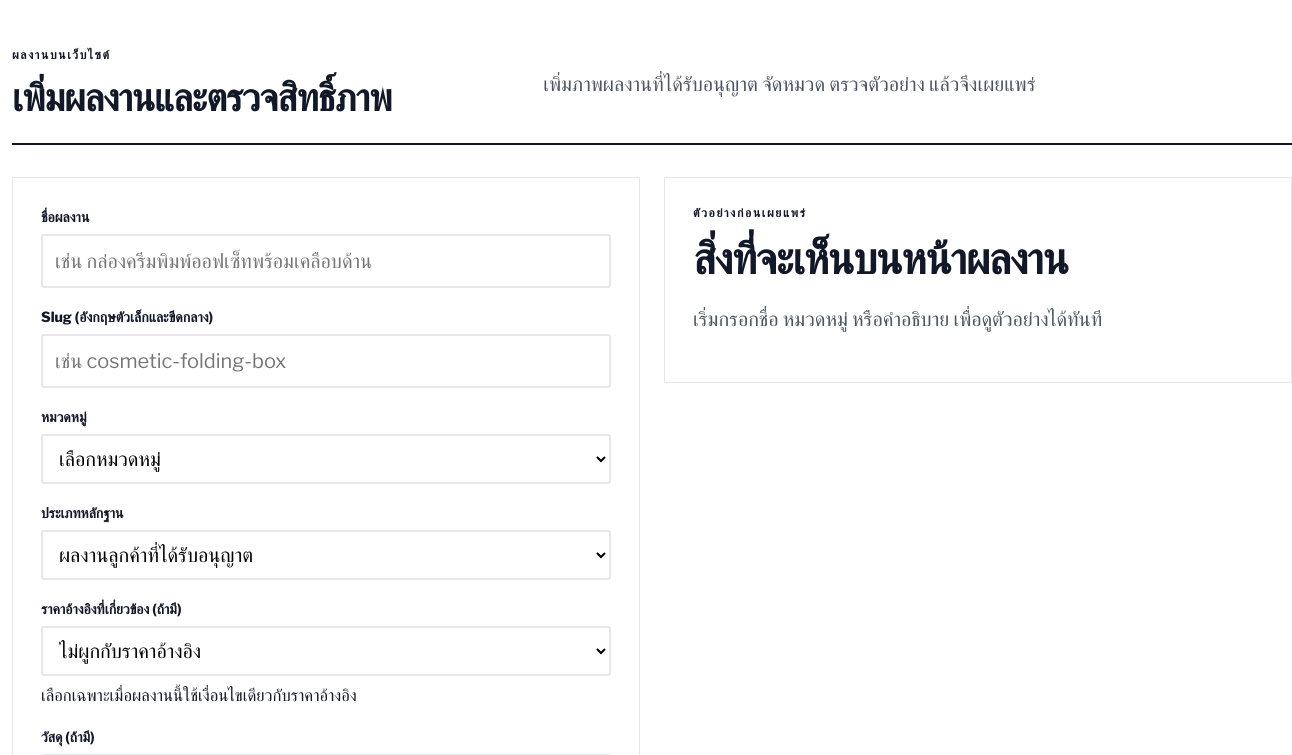
Test case: AdminGalleryEditor › offers controlled categories with an other option and previews draft input
Type "กล่องครีมตัวอย่าง" into the field labelled "ชื่อผลงาน" at (326, 261), box [41, 234, 611, 288]
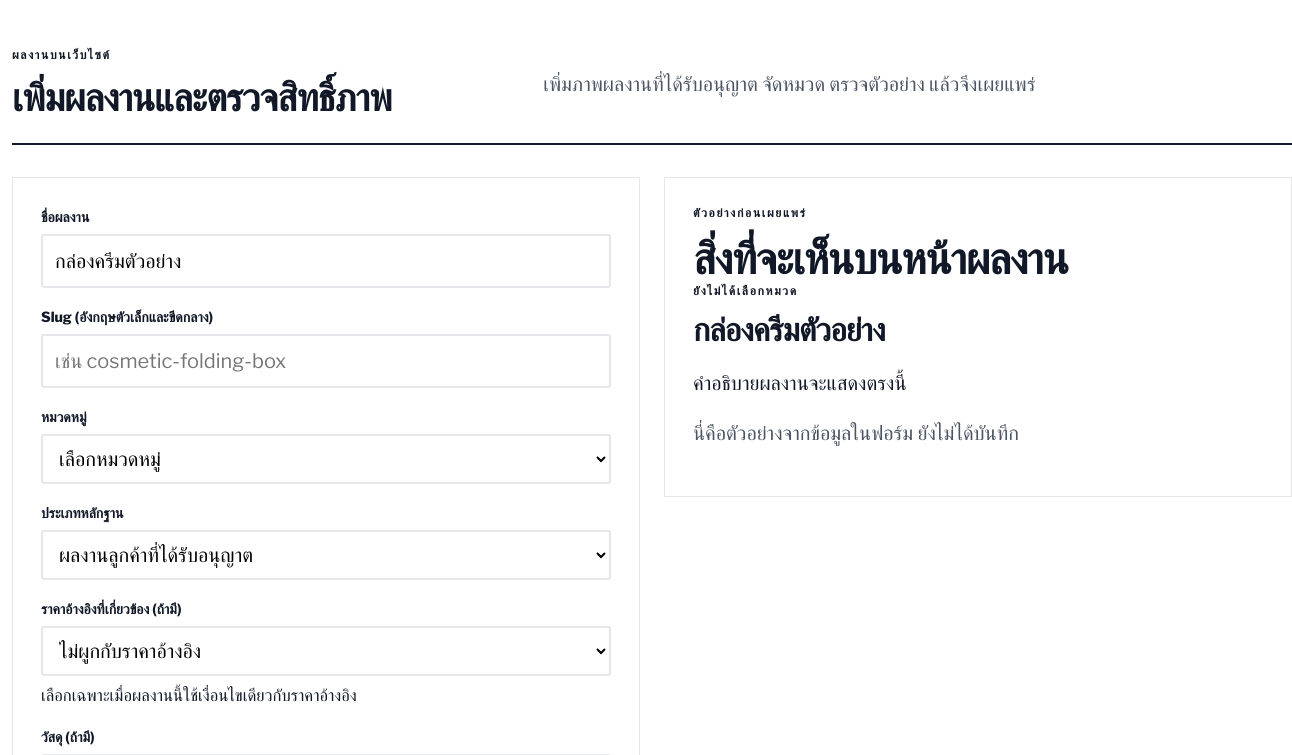
Select "กล่องกระดาษพับ" in the dropdown labelled "หมวดหมู่" at (326, 459), box [41, 434, 611, 484]
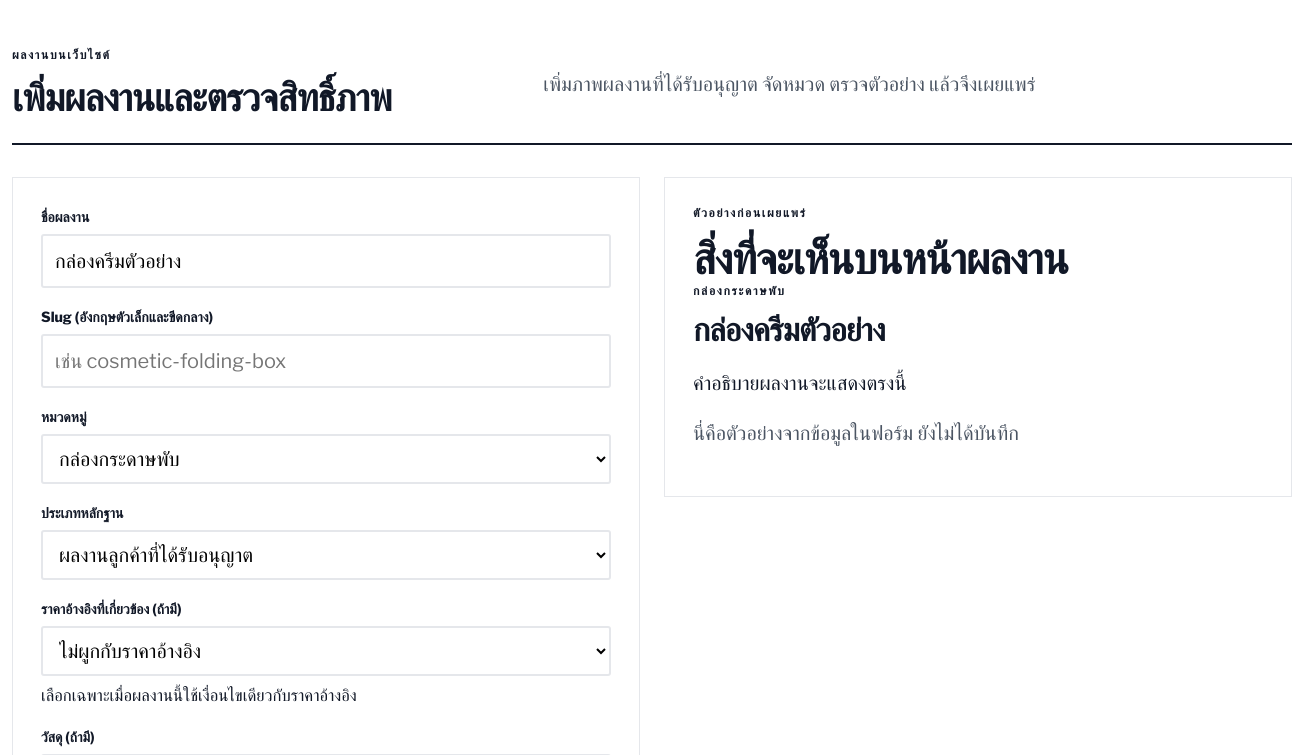
Now the heading "กล่องครีมตัวอย่าง" is shown, box [693, 310, 885, 349]
Now the text "นี่คือตัวอย่างจากข้อมูลในฟอร์ม ยังไม่ได้บันทึก" is shown, box [693, 421, 1019, 445]
Now the text "กล่องกระดาษพับ" is shown, box [693, 282, 786, 298]
